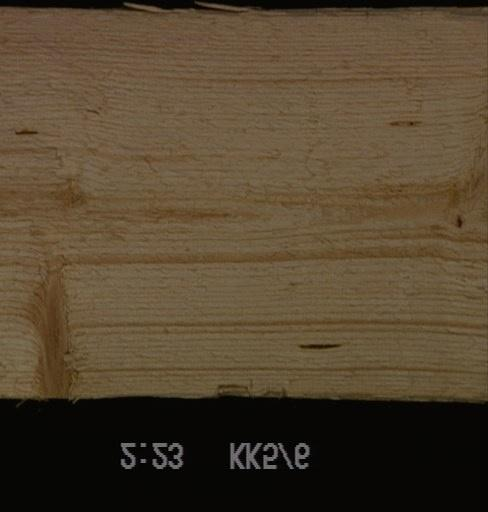small_knot: (447, 206, 475, 237)
